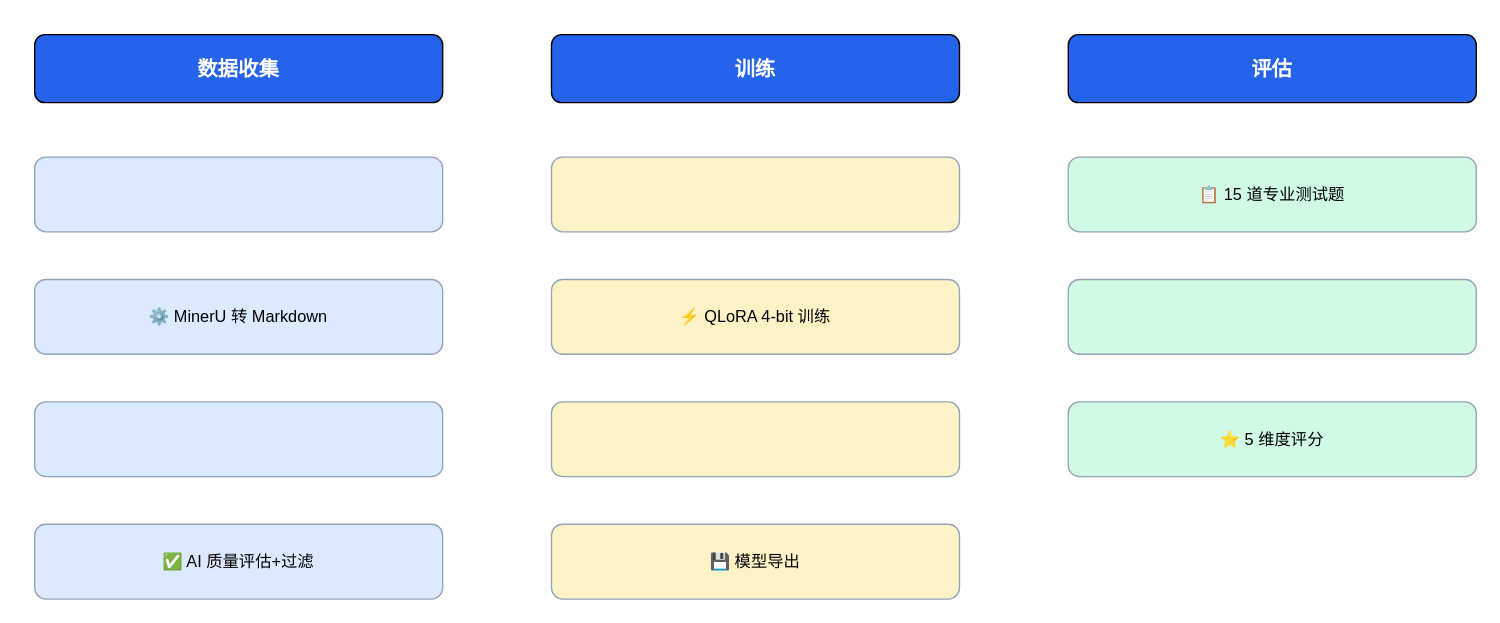
The diagram is 1500 pixels wide and 623 high, and some of its shapes have lost their labels. The shapes that lost their labels are listed below. From the top down, each one's centre as x and y in pixels, then its label:
At (x=238, y=194): "📄 PDF 规程文档".
At (x=754, y=194): "☁️ AutoDL 云 GPU".
At (x=1271, y=316): "🤖 GPT-5.5 盲评".
At (x=238, y=439): "📝 Easy Dataset 生成 QA".
At (x=754, y=439): "📊 Loss 曲线分析".
